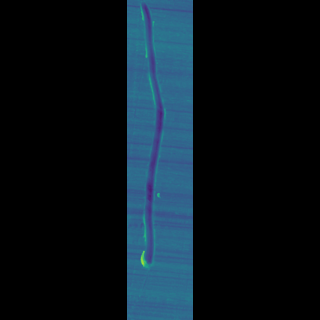Loch: (155, 0, 161, 270)
